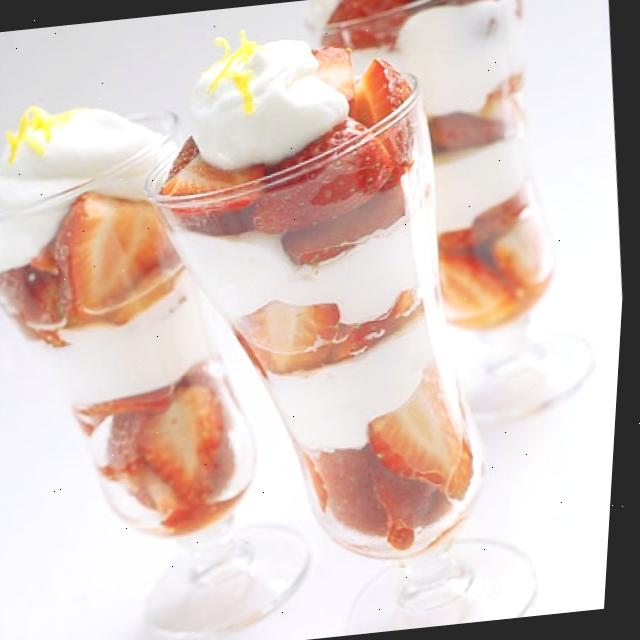蛋糕甜品: (108, 13, 553, 636)
